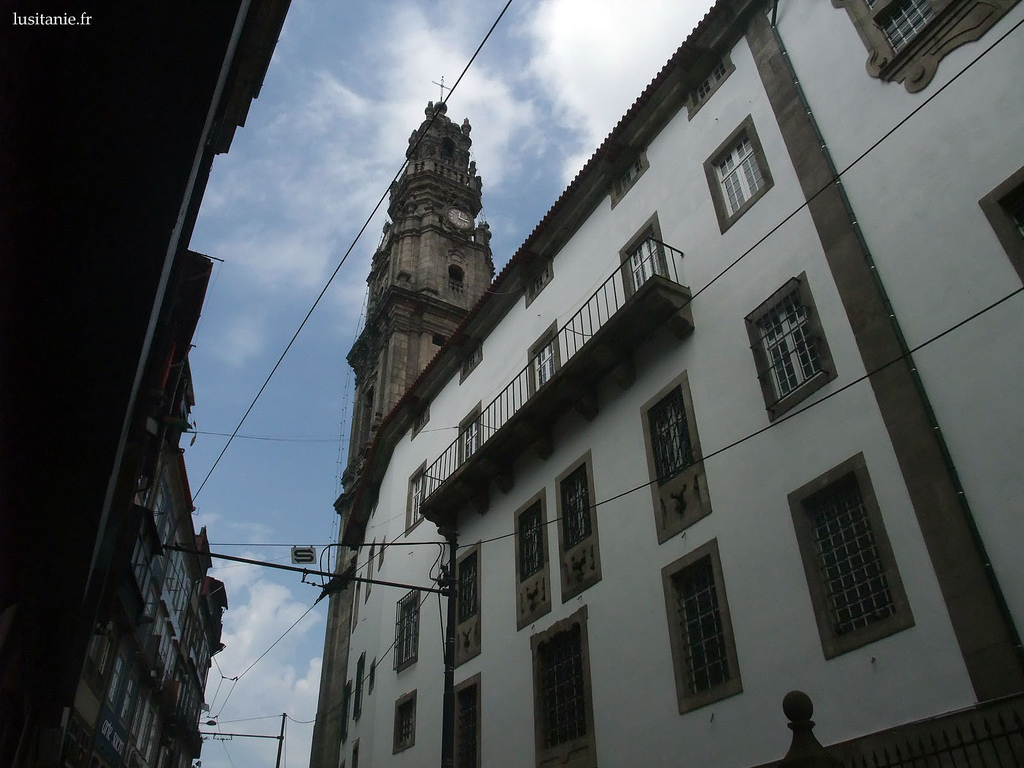clerigos: (334, 74, 500, 488)
